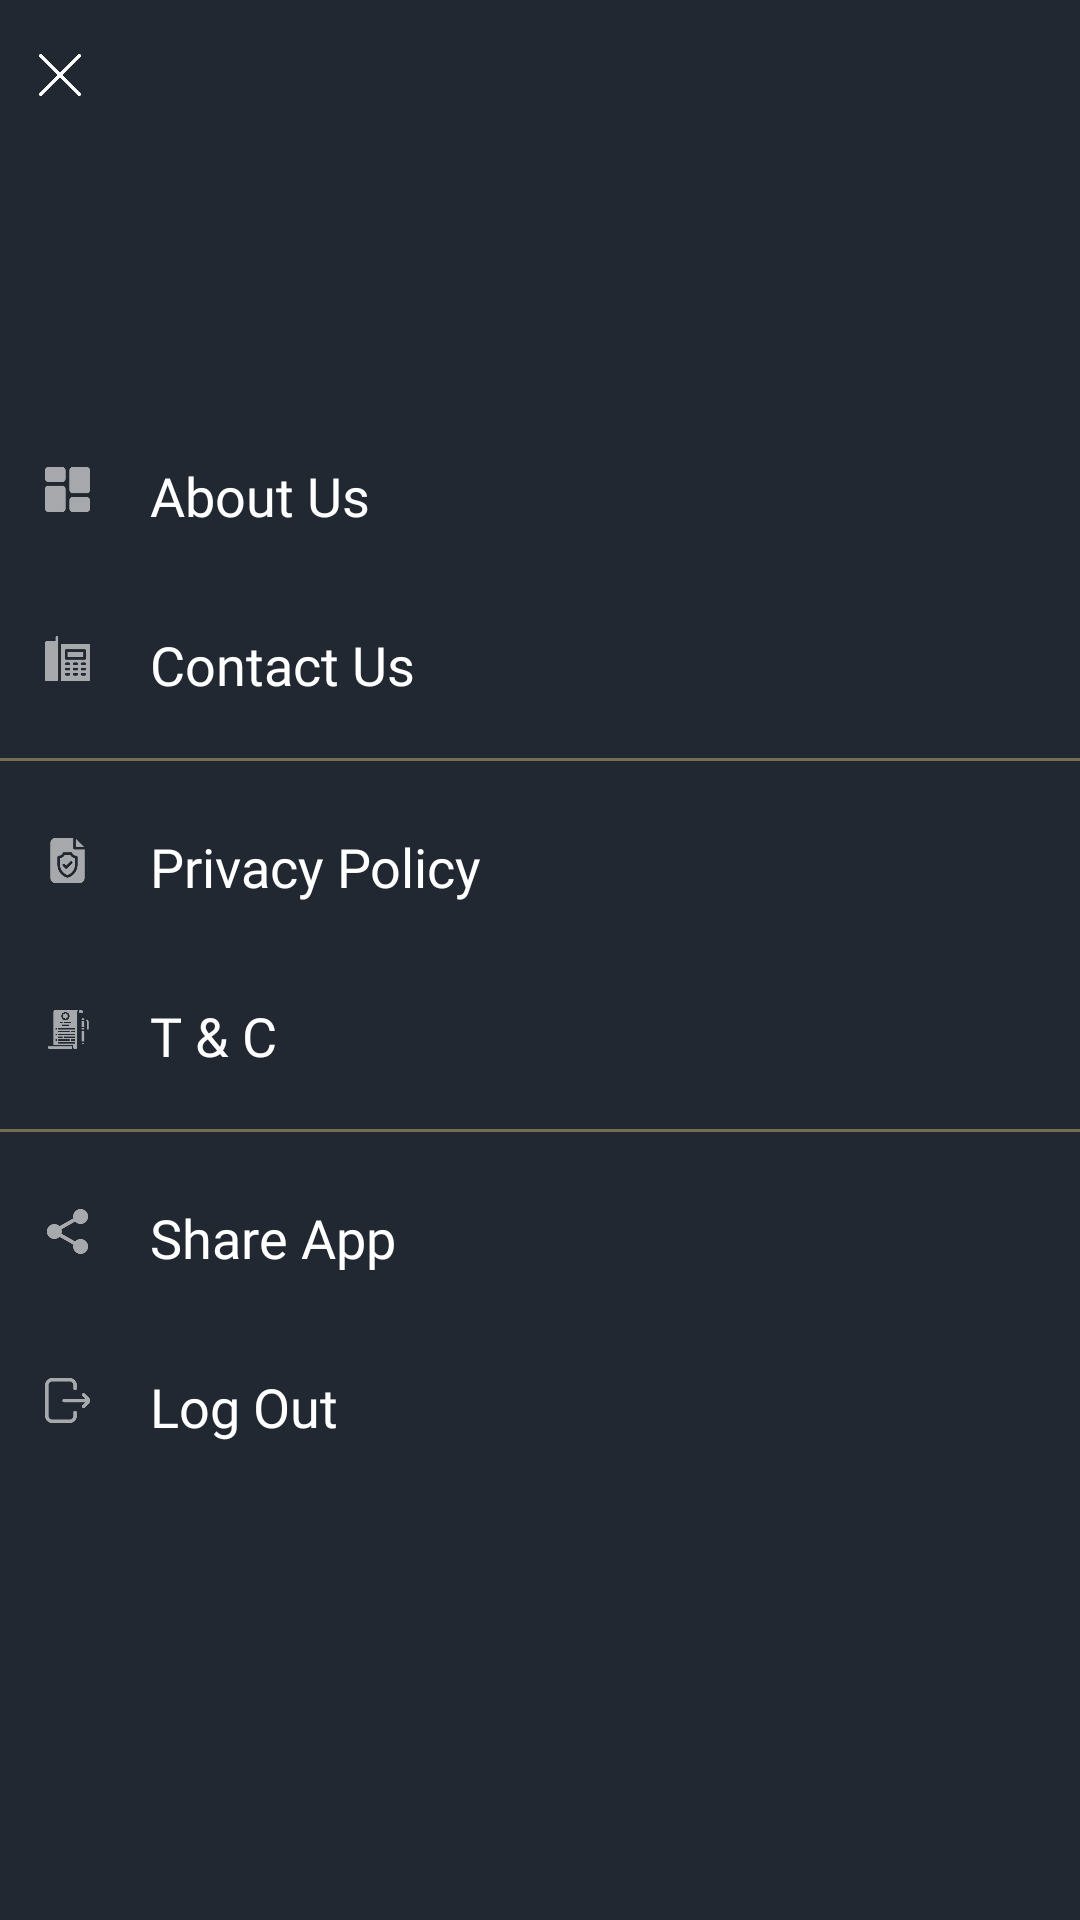

Locate icon controls on the screen. Image size 1080×1920, boxes as bbox(x1, y1, x2, y2).
close: bbox(39, 54, 81, 96)
